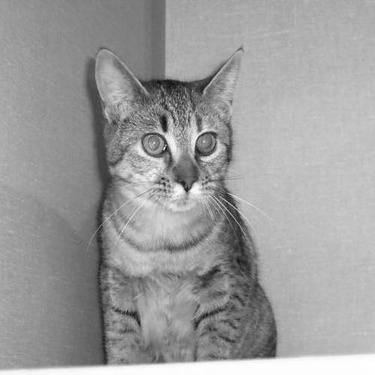cat: (89, 47, 279, 366)
